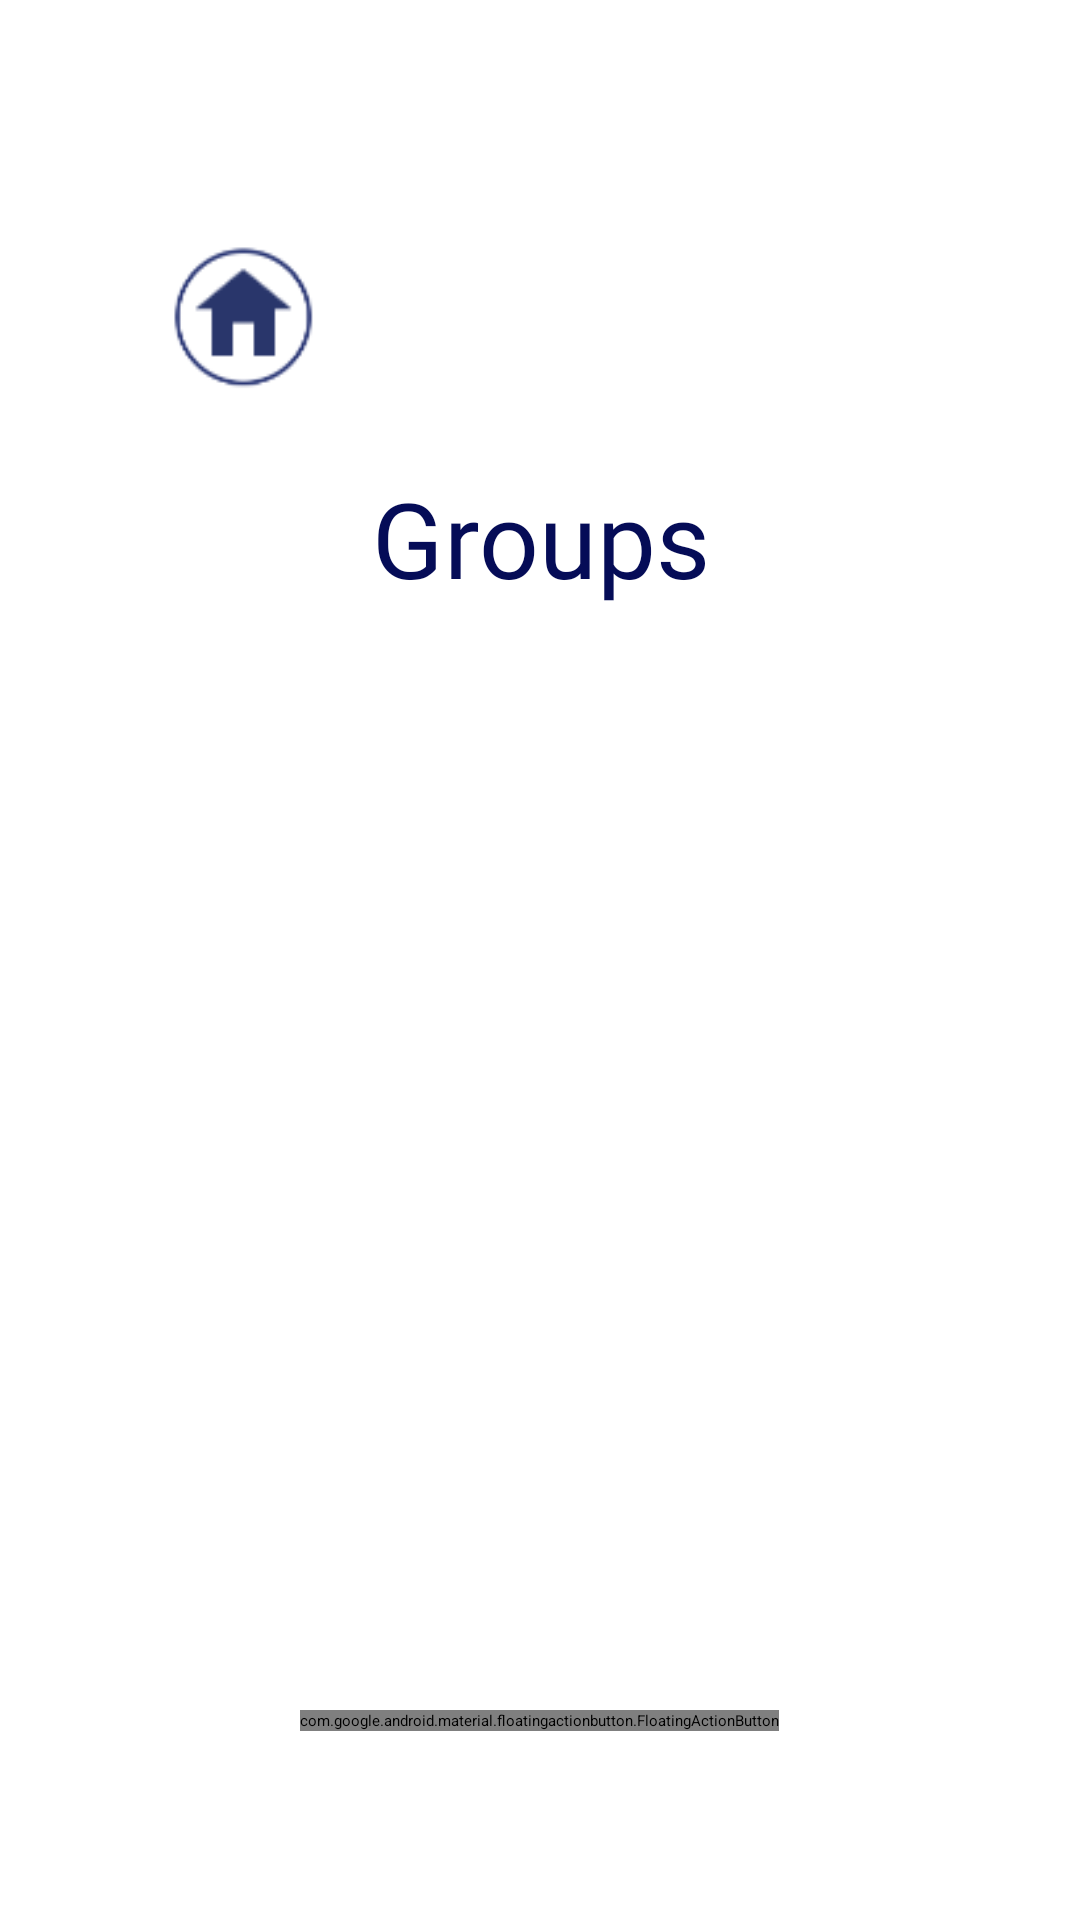

Icons on this 1080w x 1920h Android screen, each with its box as rect(x1, y1, x2, y2):
Home Button: rect(174, 247, 313, 387)
